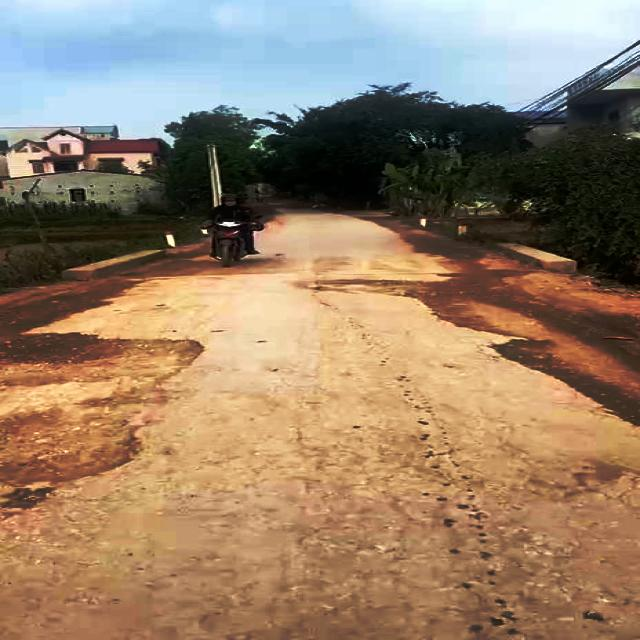pothole: (0, 407, 161, 483), (0, 333, 199, 389), (310, 277, 436, 297)
